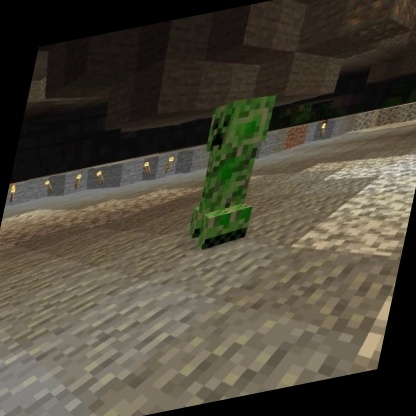creeper: (179, 88, 283, 258)
